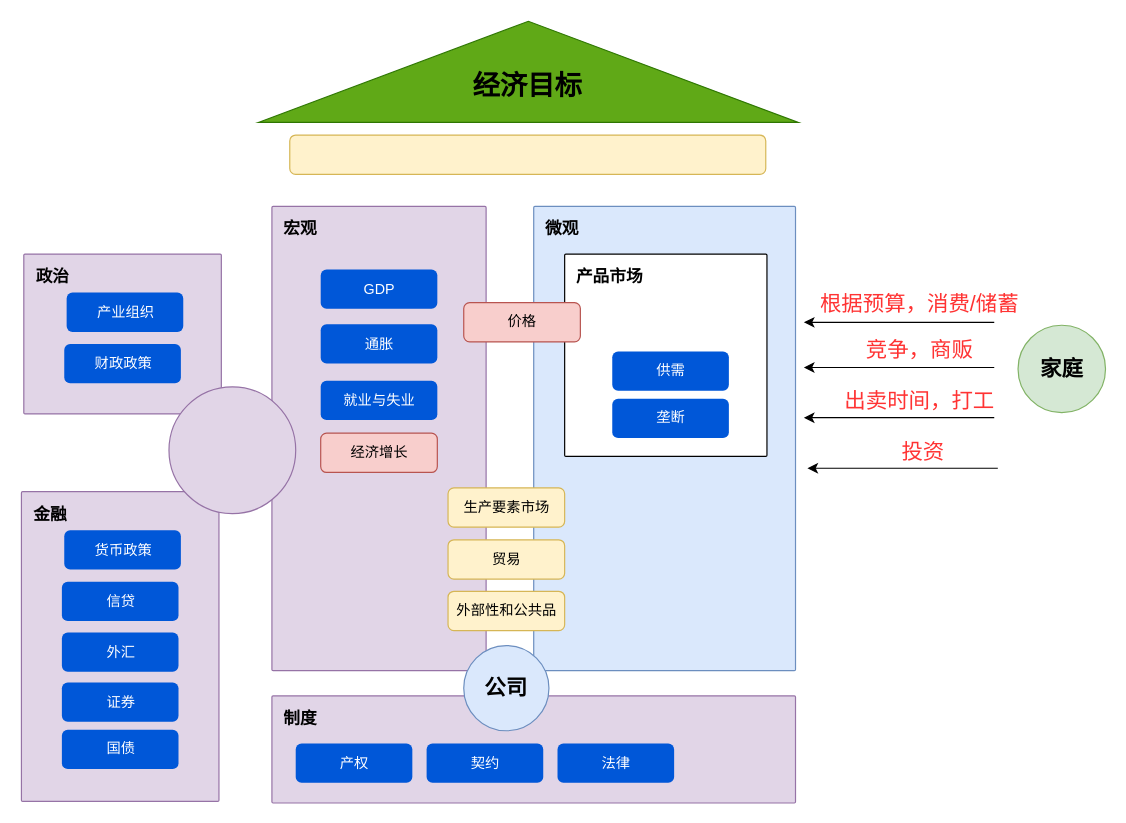
This 1126x823 diagram has some shape labels left out. The centre of each missing label's shape, as x and y in pixels:
"政府" goes at [232,450].
"时间" goes at [527,154].
